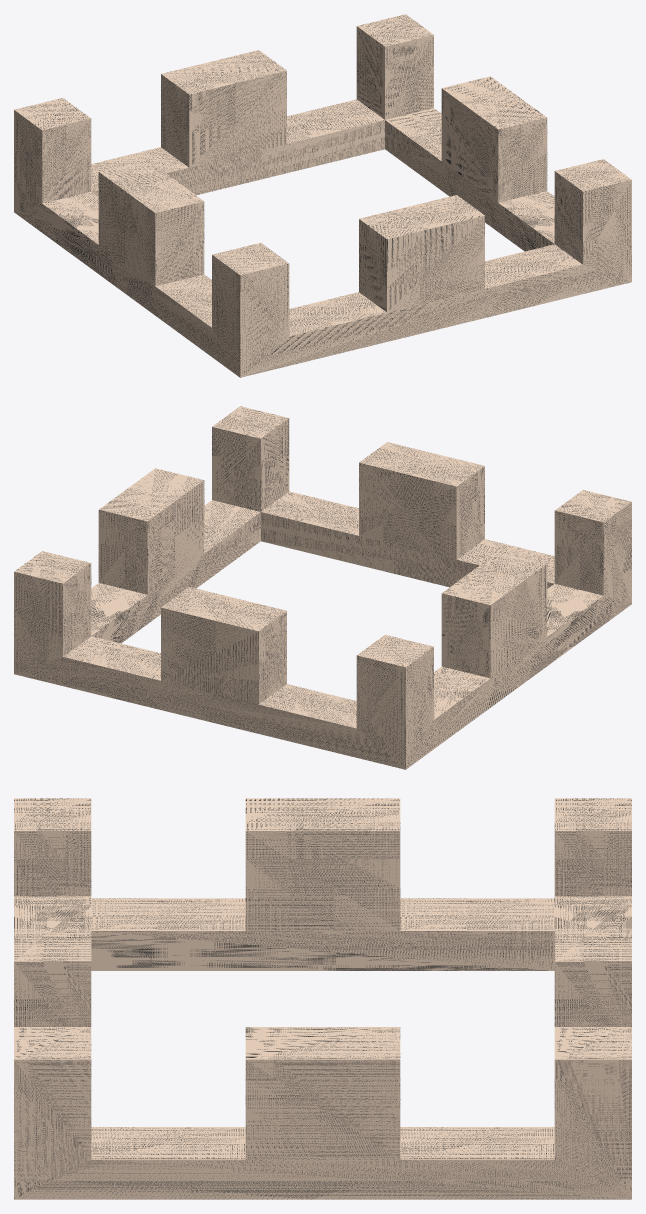
Rendered from Abstract_Castle_Block_Single_BattlementTop_Cream_01.fbx.
3 renders of one model, top to bottom at view 1: azimuth 30°, elevation 25°; view 2: azimuth 150°, elevation 25°; view 3: azimuth 270°, elevation 25°, orthographic. The views are drawn at different scales.
Visible parts, largest first — view 1: Model; view 2: Model; view 3: Model.
Boxes of the visible parts, <box> form: Model: <box>14,14,631,377</box>; Model: <box>14,406,631,769</box>; Model: <box>14,798,631,1199</box>.
Bounding box in the file's own units: 1000 × 250 × 1000.
